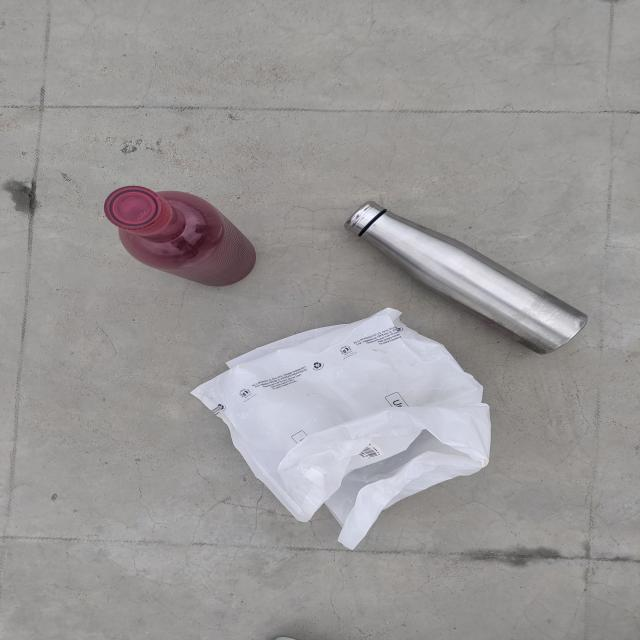dry: (184, 335, 546, 559), (340, 183, 632, 369), (76, 156, 276, 312)
